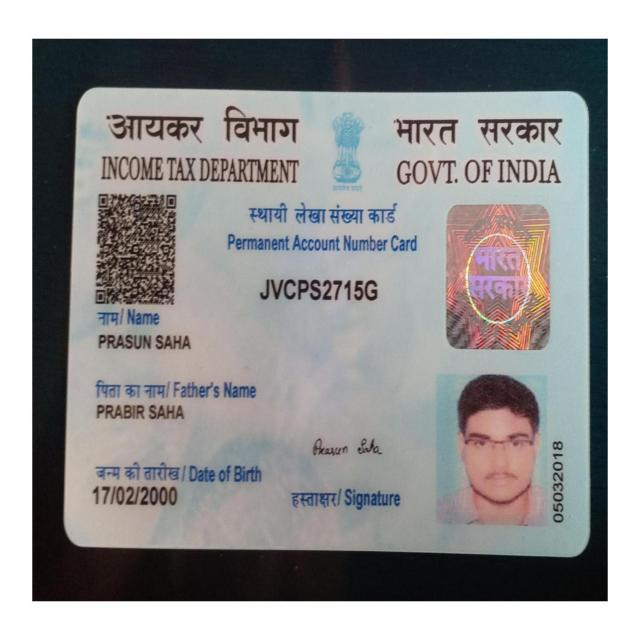pan_card: (68, 98, 580, 548)
